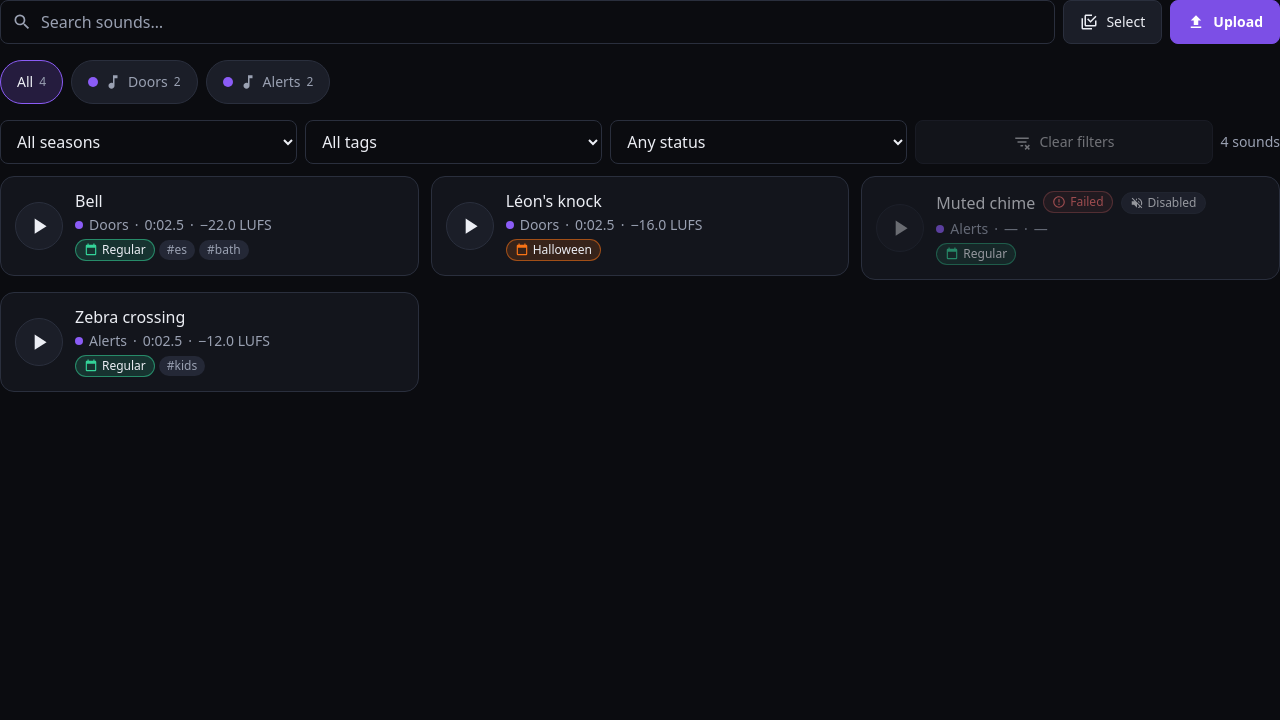
selection › taps select instead of opening while selecting
Click the button with test id "select-toggle": (1113, 22) x1=1063 y1=0 x2=1162 y2=44
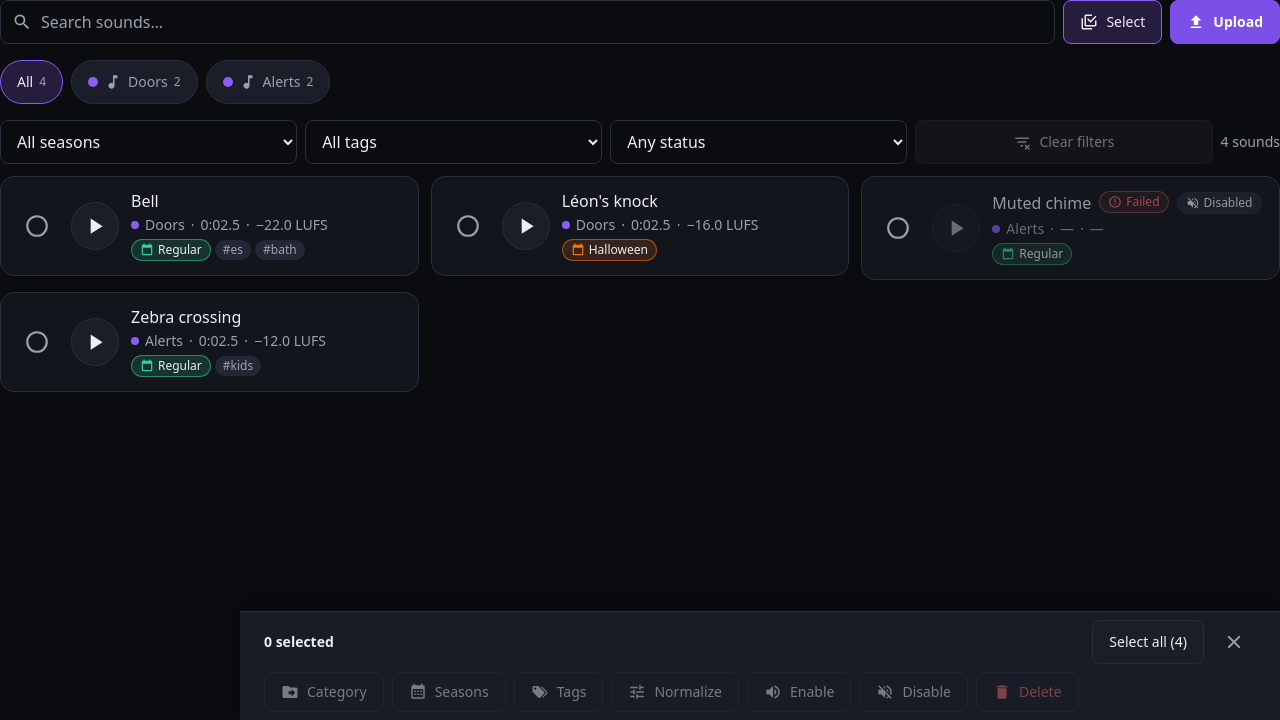
Click the button with test id "body" that starts with "Bell": (267, 226) x1=131 y1=191 x2=404 y2=261
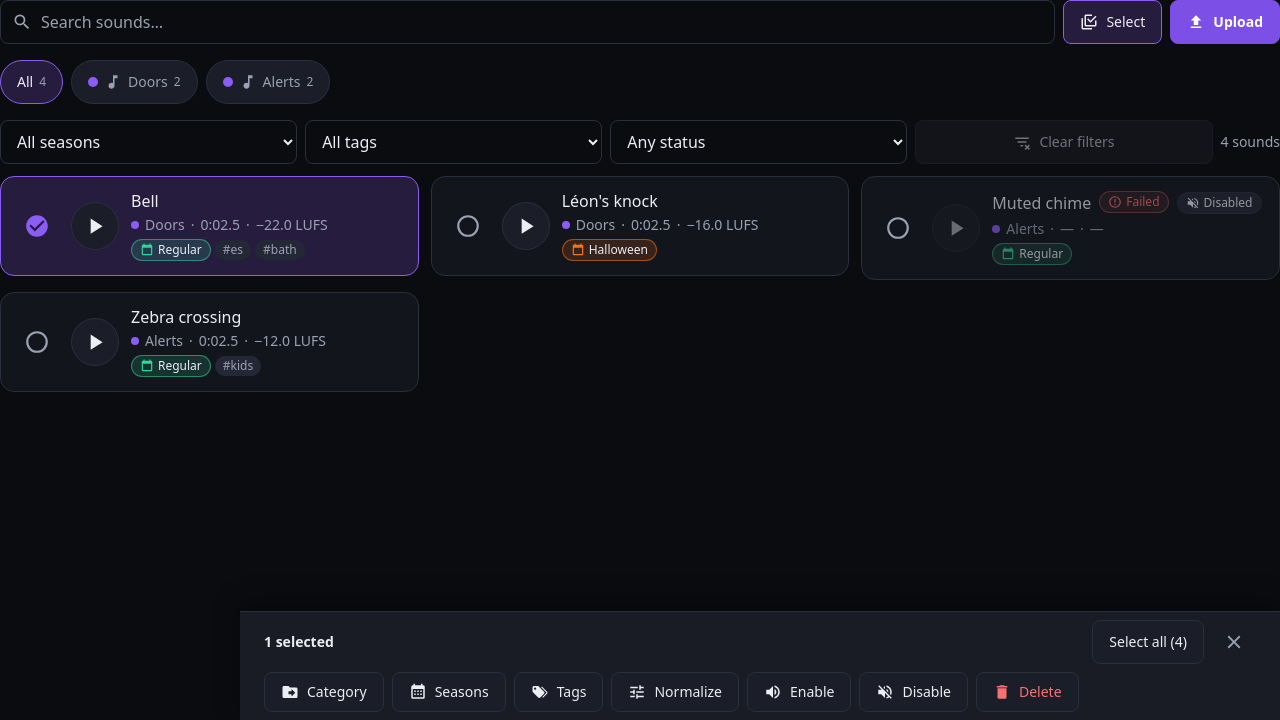
Check: the text with test id "count" reads "1 selected", box x1=264 y1=632 x2=334 y2=651
